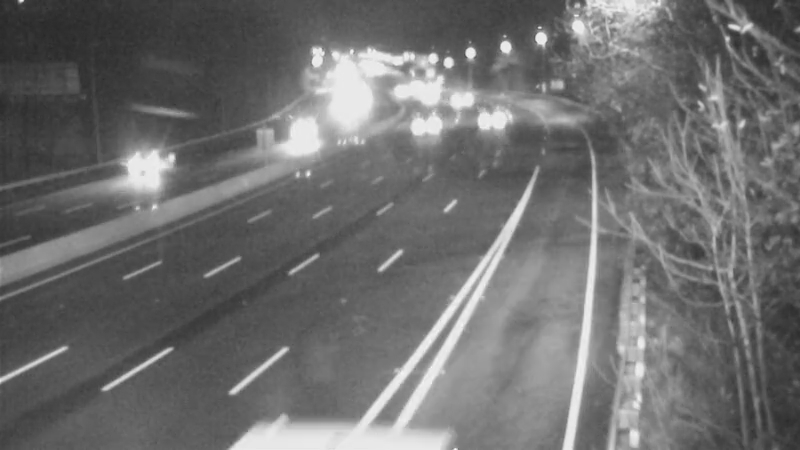vehicle: (102, 125, 182, 205), (376, 68, 426, 118), (398, 69, 448, 119), (442, 77, 492, 127), (466, 94, 516, 144), (403, 103, 453, 153), (277, 111, 327, 161)
